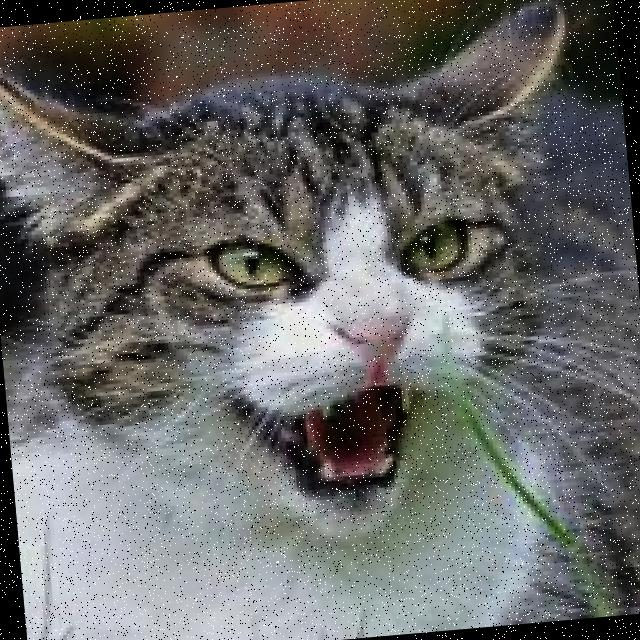Angry: (144, 157, 540, 554)
